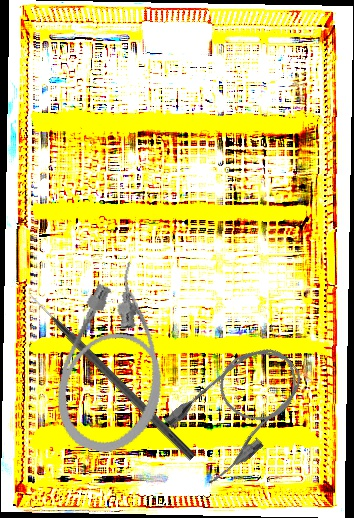Cannula: (42, 252, 194, 464), (157, 330, 321, 490)
Hook Surgical: (24, 288, 198, 462)
